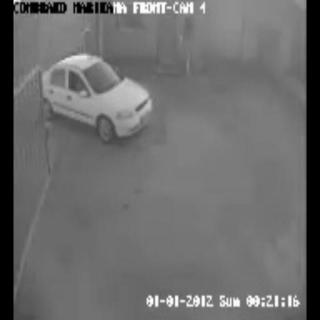car: (41, 56, 150, 145)
